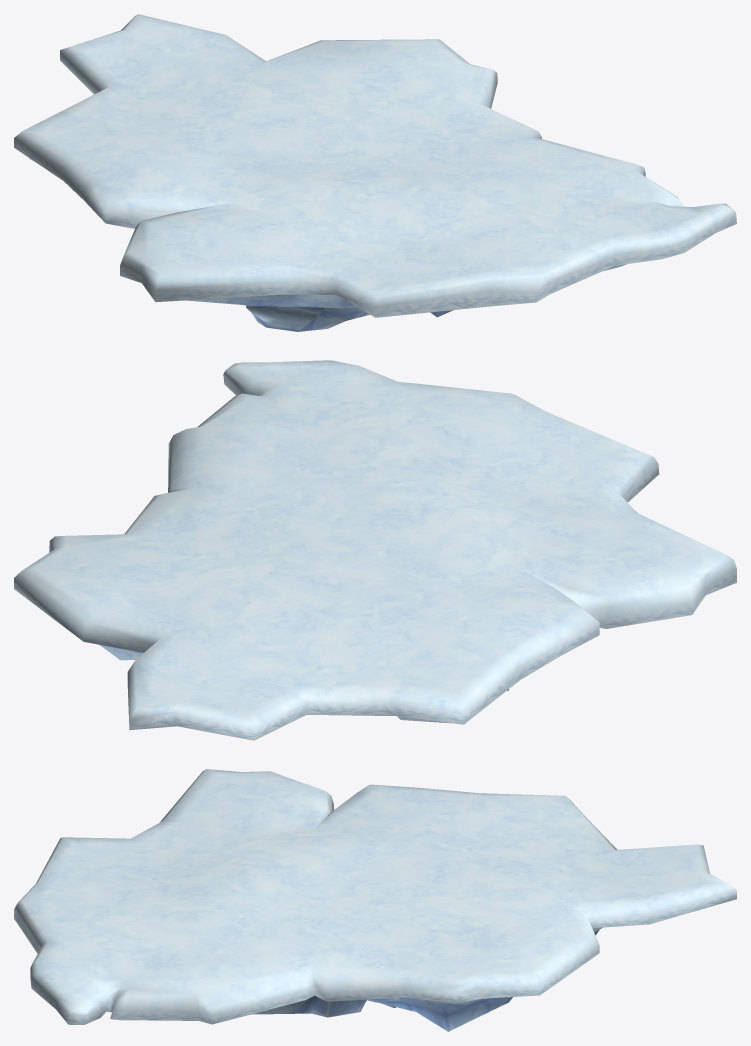
Rendered from bel_env_plateau_05.glb.
The picture shows the model from 3 angles, top to bottom: view 1: azimuth 30°, elevation 25°; view 2: azimuth 150°, elevation 25°; view 3: azimuth 270°, elevation 25°; orthographic projection. The views are drawn at different scales.
Parts seen in each view (by area): view 1: bel_env_plateau_05; view 2: bel_env_plateau_05; view 3: bel_env_plateau_05.
Boxes of the visible parts, x1,y1,x2,y2 form: bel_env_plateau_05: (14, 14, 736, 331); bel_env_plateau_05: (14, 360, 736, 740); bel_env_plateau_05: (14, 769, 736, 1031).
Bounding box in the file's own units: 10.58 × 2.77 × 13.43.
3 materials, 3 textured.
